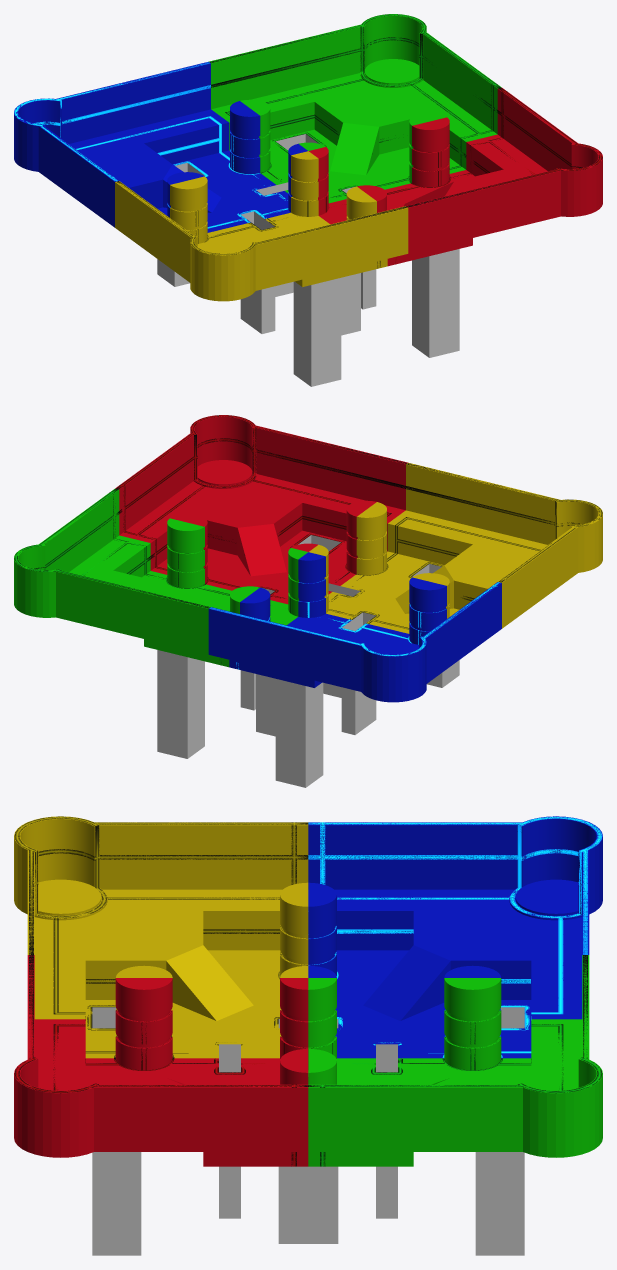
The model's file is Arena.fbx.
3 renders of one model, top to bottom at view 1: azimuth 30°, elevation 25°; view 2: azimuth 150°, elevation 25°; view 3: azimuth 270°, elevation 25°, orthographic. The views are drawn at different scales.
Parts seen in each view (by area): view 1: Circle, Circle.002, Circle.001; view 2: Circle, Circle.002, Circle.001; view 3: Circle, Circle.002, Circle.001.
Part boxes in pixels (<box>): Circle: <box>14,14,602,301</box>; Circle.002: <box>157,134,459,386</box>; Circle.001: <box>14,14,602,268</box>; Circle: <box>14,415,602,702</box>; Circle.002: <box>157,535,459,787</box>; Circle.001: <box>14,415,602,669</box>; Circle: <box>14,816,602,1166</box>; Circle.002: <box>92,1007,524,1255</box>; Circle.001: <box>14,816,602,1166</box>.
Bounding box in the file's own units: 36.9 × 15.51 × 33.15.
